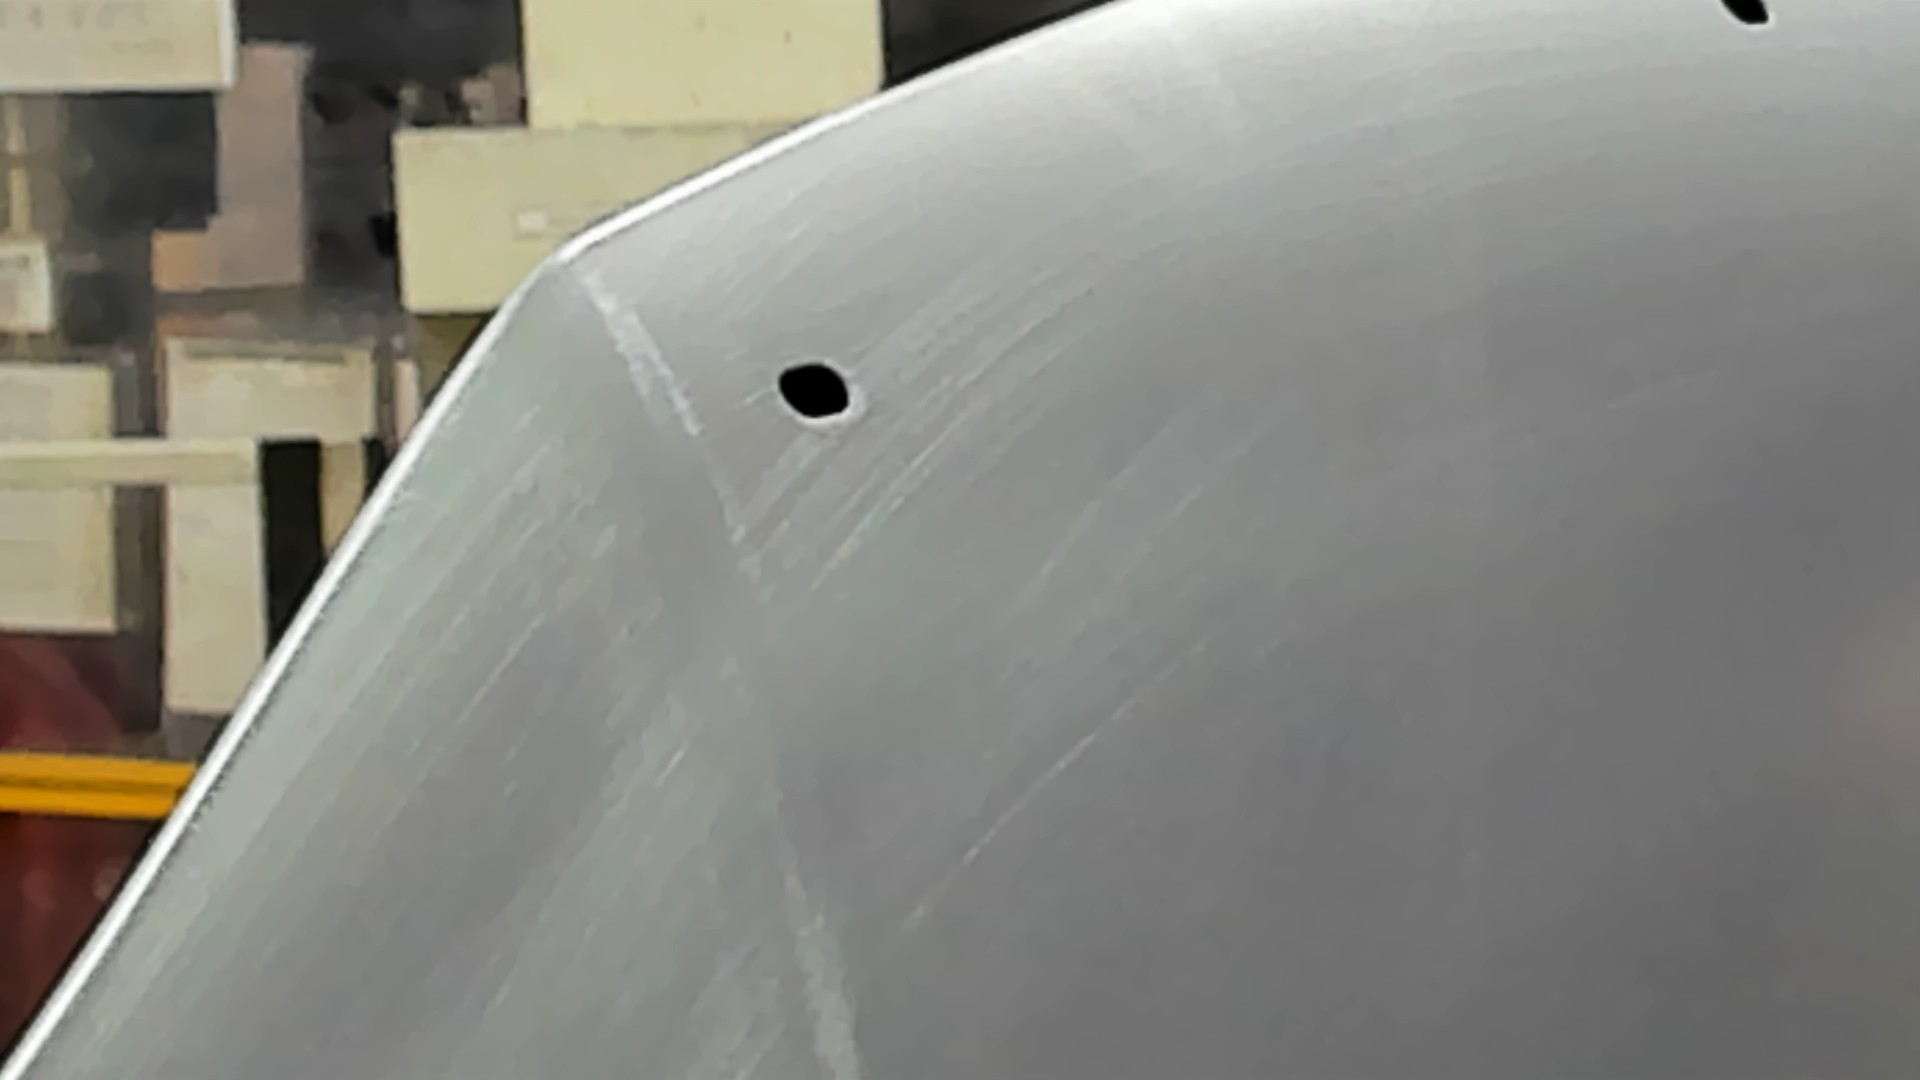amorfo: (771, 353, 864, 429), (1716, 1, 1778, 36)
